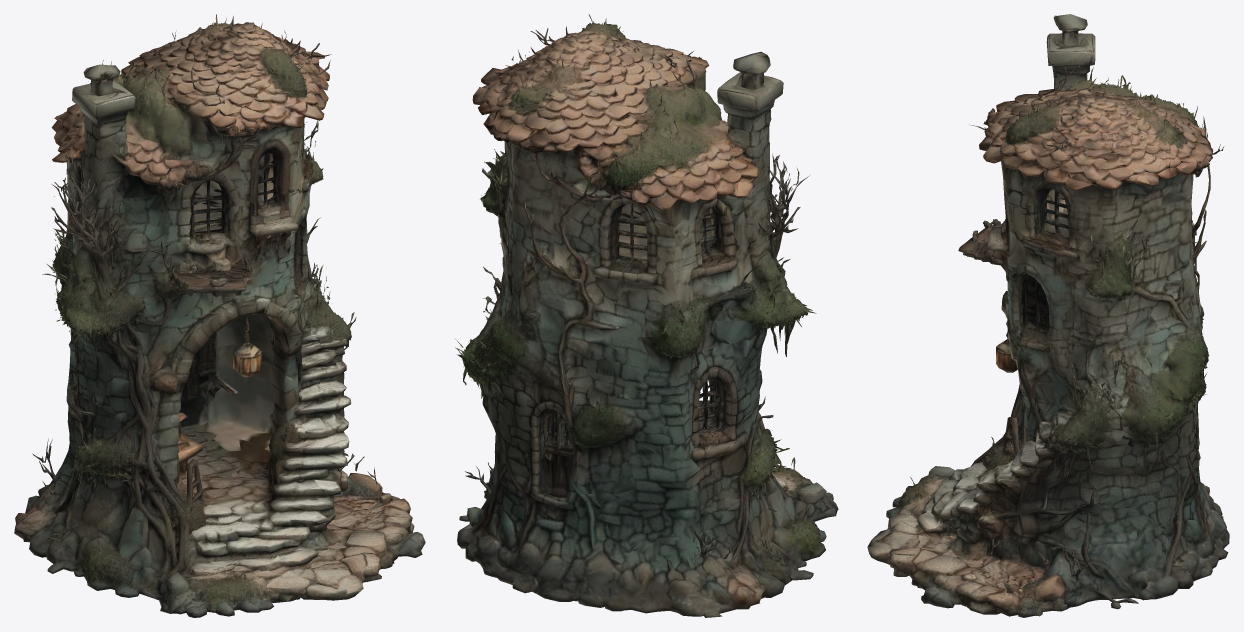
Rendered from Winding_Stone_Tower.glb.
The picture shows the model from 3 angles, left to right: view 1: azimuth 30°, elevation 25°; view 2: azimuth 150°, elevation 25°; view 3: azimuth 270°, elevation 25°; orthographic projection. The views are drawn at different scales.
Visible parts, largest first — view 1: Winding_Stone_Tower; view 2: Winding_Stone_Tower; view 3: Winding_Stone_Tower.
Part boxes in pixels (left/top/right/bottom): Winding_Stone_Tower: left=14, top=14, right=425, bottom=617; Winding_Stone_Tower: left=455, top=14, right=838, bottom=617; Winding_Stone_Tower: left=867, top=14, right=1229, bottom=617.
Size of the model in its own units: 1.33 by 1.9 by 1.31.
Materials: 1 (1 with a texture image).
